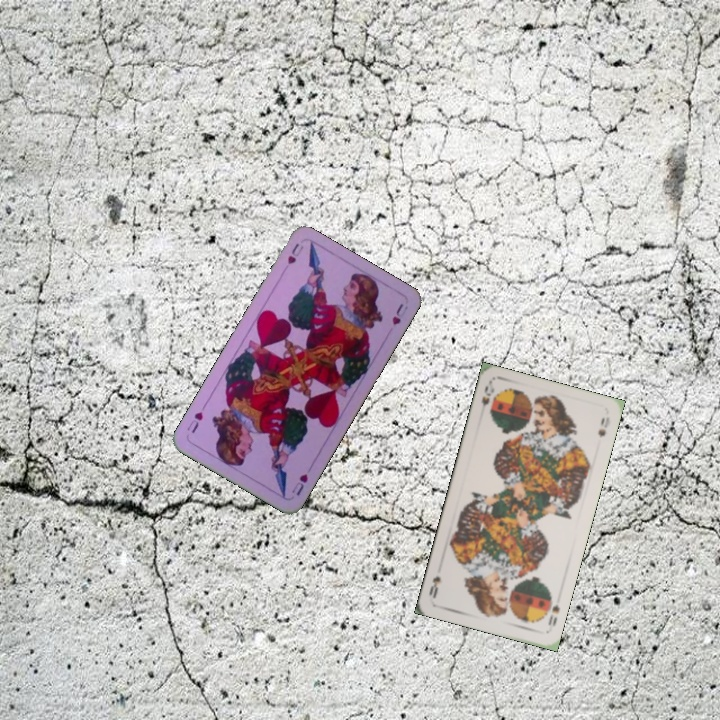HU: (278, 239, 306, 275), (287, 470, 310, 498)
SO: (477, 380, 497, 409), (544, 601, 563, 629)
